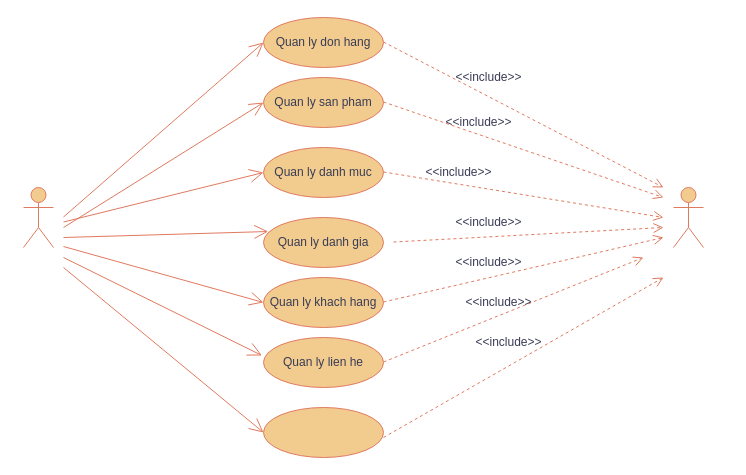
Some shapes in this 746 by 475 pixel diagram are drawn without their labels. The centre of each missing label's shape, as x and y in pixels:
"HeThongCSDL" belongs at (x=688, y=217).
"QuanTri" belongs at (x=38, y=217).
"Thong ke san pham" belongs at (x=323, y=432).
